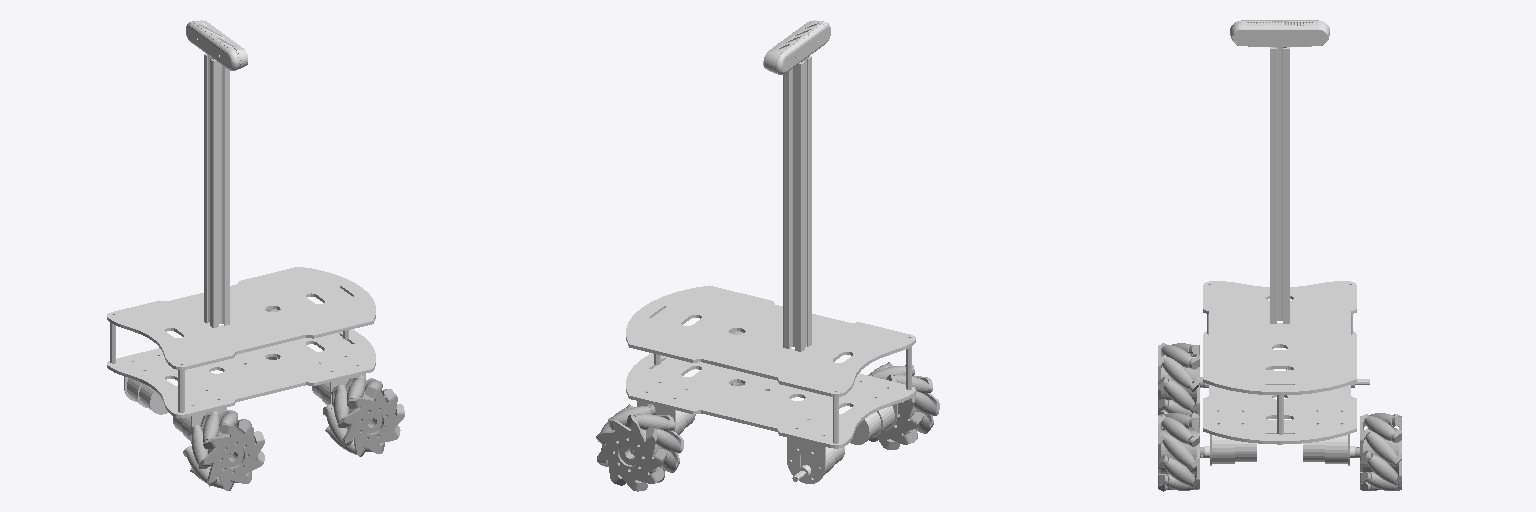
URDF robot description (omni-manipulator-description):
<?xml version="1.0" encoding="utf-8"?>
<!-- This URDF was automatically created by SolidWorks to URDF Exporter! Originally created by Stephen Brawner (brawner@gmail.com) 
     Commit Version: 1.6.0-4-g7f85cfe  Build Version: 1.6.7995.38578
     For more information, please see http://wiki.ros.org/sw_urdf_exporter -->
<robot
  name="omni-manipulator-description">
  <link
    name="base_link">
    <inertial>
      <origin
        xyz="-0.00901312318197482 7.81757376177895E-05 0.0445423970884756"
        rpy="0 0 0" />
      <mass
        value="0.527041850411029" />
      <inertia
        ixx="0.000864581380625486"
        ixy="4.97642778210476E-07"
        ixz="1.54819622657063E-08"
        iyy="0.00161630877736204"
        iyz="-8.23724472378619E-09"
        izz="0.00177052599006481" />
    </inertial>
    <visual>
      <origin
        xyz="0 0 0"
        rpy="0 0 0" />
      <geometry>
        <mesh
          filename="package://omni_manipulator_description/meshes/visual/base_link.STL" />
      </geometry>
      <material
        name="">
        <color
          rgba="0.894117647058823 0.894117647058823 0.894117647058823 1" />
      </material>
    </visual>
    <collision>
      <origin
        xyz="0 0 0"
        rpy="0 0 0" />
      <geometry>
        <mesh
          filename="package://omni_manipulator_description/meshes/visual/base_link.STL" />
      </geometry>
    </collision>
  </link>
  <link
    name="front_left_wheel_link">
    <inertial>
      <origin
        xyz="-4.5209E-06 -0.020971 -4.8866E-05"
        rpy="0 0 0" />
      <mass
        value="0.1238" />
      <inertia
        ixx="2.3671E-05"
        ixy="2.3772E-12"
        ixz="5.4728E-11"
        iyy="3.1205E-05"
        iyz="-5.9358E-13"
        izz="2.3671E-05" />
    </inertial>
    <visual>
      <origin
        xyz="0 0 0"
        rpy="0 0 0" />
      <geometry>
        <mesh
          filename="package://omni_manipulator_description/meshes/visual/front_left_wheel_link.STL" />
      </geometry>
      <material
        name="">
        <color
          rgba="0.75294 0.75294 0.75294 1" />
      </material>
    </visual>
    <collision>
      <origin
        xyz="0 0 0"
        rpy="0 0 0" />
      <geometry>
        <mesh
          filename="package://omni_manipulator_description/meshes/visual/front_left_wheel_link.STL" />
      </geometry>
    </collision>
  </link>
  <joint
    name="front_left_wheel_joint"
    type="continuous">
    <origin
      xyz="0.074941 0.12088 -0.037794"
      rpy="0 0 0" />
    <parent
      link="base_link" />
    <child
      link="front_left_wheel_link" />
    <axis
      xyz="0 1 0" />
  </joint>
  <link
    name="front_right_wheel_link">
    <inertial>
      <origin
        xyz="-4.4854E-05 0.020971 1.9913E-05"
        rpy="0 0 0" />
      <mass
        value="0.1238" />
      <inertia
        ixx="2.3671E-05"
        ixy="-7.1009E-13"
        ixz="-1.524E-10"
        iyy="3.1205E-05"
        iyz="-2.3757E-12"
        izz="2.3671E-05" />
    </inertial>
    <visual>
      <origin
        xyz="0 0 0"
        rpy="0 0 0" />
      <geometry>
        <mesh
          filename="package://omni_manipulator_description/meshes/visual/front_right_wheel_link.STL" />
      </geometry>
      <material
        name="">
        <color
          rgba="0.75294 0.75294 0.75294 1" />
      </material>
    </visual>
    <collision>
      <origin
        xyz="0 0 0"
        rpy="0 0 0" />
      <geometry>
        <mesh
          filename="package://omni_manipulator_description/meshes/visual/front_right_wheel_link.STL" />
      </geometry>
    </collision>
  </link>
  <joint
    name="front_right_wheel_joint"
    type="continuous">
    <origin
      xyz="0.074874 -0.12088 -0.037679"
      rpy="0 0 0" />
    <parent
      link="base_link" />
    <child
      link="front_right_wheel_link" />
    <axis
      xyz="0 1 0" />
  </joint>
  <link
    name="back_right_wheel_link">
    <inertial>
      <origin
        xyz="-3.1993E-05 0.020971 3.7213E-05"
        rpy="0 0 0" />
      <mass
        value="0.1238" />
      <inertia
        ixx="2.3671E-05"
        ixy="-1.6153E-12"
        ixz="-2.1865E-10"
        iyy="3.1205E-05"
        iyz="-1.8749E-12"
        izz="2.3671E-05" />
    </inertial>
    <visual>
      <origin
        xyz="0 0 0"
        rpy="0 0 0" />
      <geometry>
        <mesh
          filename="package://omni_manipulator_description/meshes/visual/back_right_wheel_link.STL" />
      </geometry>
      <material
        name="">
        <color
          rgba="0.75294 0.75294 0.75294 1" />
      </material>
    </visual>
    <collision>
      <origin
        xyz="0 0 0"
        rpy="0 0 0" />
      <geometry>
        <mesh
          filename="package://omni_manipulator_description/meshes/visual/back_right_wheel_link.STL" />
      </geometry>
    </collision>
  </link>
  <joint
    name="back_right_wheel_joint"
    type="continuous">
    <origin
      xyz="-0.088234 -0.12088 -0.037681"
      rpy="0 0 0" />
    <parent
      link="base_link" />
    <child
      link="back_right_wheel_link" />
    <axis
      xyz="0 1 0" />
  </joint>
  <link
    name="back_left_wheel_link">
    <inertial>
      <origin
        xyz="-3.3869E-07 -0.020971 -4.9074E-05"
        rpy="0 0 0" />
      <mass
        value="0.1238" />
      <inertia
        ixx="2.3671E-05"
        ixy="2.432E-12"
        ixz="1.7836E-11"
        iyy="3.1205E-05"
        iyz="-3.8664E-13"
        izz="2.3671E-05" />
    </inertial>
    <visual>
      <origin
        xyz="0 0 0"
        rpy="0 0 0" />
      <geometry>
        <mesh
          filename="package://omni_manipulator_description/meshes/visual/back_left_wheel_link.STL" />
      </geometry>
      <material
        name="">
        <color
          rgba="0.75294 0.75294 0.75294 1" />
      </material>
    </visual>
    <collision>
      <origin
        xyz="0 0 0"
        rpy="0 0 0" />
      <geometry>
        <mesh
          filename="package://omni_manipulator_description/meshes/visual/back_left_wheel_link.STL" />
      </geometry>
    </collision>
  </link>
  <joint
    name="back_left_wheel_joint"
    type="continuous">
    <origin
      xyz="-0.088195 0.12088 -0.037789"
      rpy="0 0 0" />
    <parent
      link="base_link" />
    <child
      link="back_left_wheel_link" />
    <axis
      xyz="0 1 0" />
  </joint>

  <gazebo>
    <plugin
      filename="gz-sim-mecanum-drive-system"
      name="gz::sim::systems::MecanumDrive">
      <!-- Topic for the command input -->
      <topic>cmd_vel</topic>

      <!-- Wheel joints -->
      <front_left_joint>front_left_wheel_joint</front_left_joint>
      <front_right_joint>front_right_wheel_joint</front_right_joint>
      <back_left_joint>back_left_wheel_joint</back_left_joint>
      <back_right_joint>back_right_wheel_joint</back_right_joint>

      <!-- Wheel parameters -->
      <wheel_separation>0.3</wheel_separation>
      <wheelbase>0.3</wheelbase>
      <wheel_radius>0.1</wheel_radius>

      <!-- Control gains and limits (optional) -->
      <min_acceleration>-5</min_acceleration>
      <max_acceleration>5</max_acceleration>

      <!-- Other parameters (optional) -->
      <odom_topic>odom</odom_topic>
      <tf_topic>tf</tf_topic>
      <frame_id>odom</frame_id>
      <child_frame_id>base_footprint</child_frame_id>
      <odom_publish_frequency>30</odom_publish_frequency>
    </plugin>
  </gazebo>
</robot>

--- What the picture shows (computed from the rendered views, not written in the file) ---
Views: 3 orthographic renders of the robot side by side, from view 1: azimuth 30°, elevation 25°; view 2: azimuth 150°, elevation 25°; view 3: azimuth 270°, elevation 25°.
Model omni-manipulator-description with 5 links and 4 joints (4 continuous), rooted at base_link, posed every joint at zero.
Links seen in each view (by area): view 1: base_link, front_right_wheel_link, back_right_wheel_link; view 2: base_link, front_left_wheel_link, back_right_wheel_link; view 3: base_link, front_right_wheel_link, front_left_wheel_link, back_right_wheel_link.
Link boxes in pixels (<box>): base_link: <box>107,20,375,439</box>; front_right_wheel_link: <box>323,375,404,456</box>; back_right_wheel_link: <box>183,410,264,490</box>; base_link: <box>626,20,915,483</box>; front_left_wheel_link: <box>596,404,683,491</box>; back_right_wheel_link: <box>868,362,939,449</box>; base_link: <box>1203,20,1369,465</box>; front_right_wheel_link: <box>1158,413,1204,491</box>; front_left_wheel_link: <box>1355,413,1401,490</box>; back_right_wheel_link: <box>1158,343,1204,415</box>.
Size in the robot's own frame: 0.2603 by 0.2418 by 0.4532 metres.
Meshes: 5 distinct files referenced, 4 mesh visuals loaded (4 binary STL); not drawn: 1 (reference not matched to a file when rendering).
